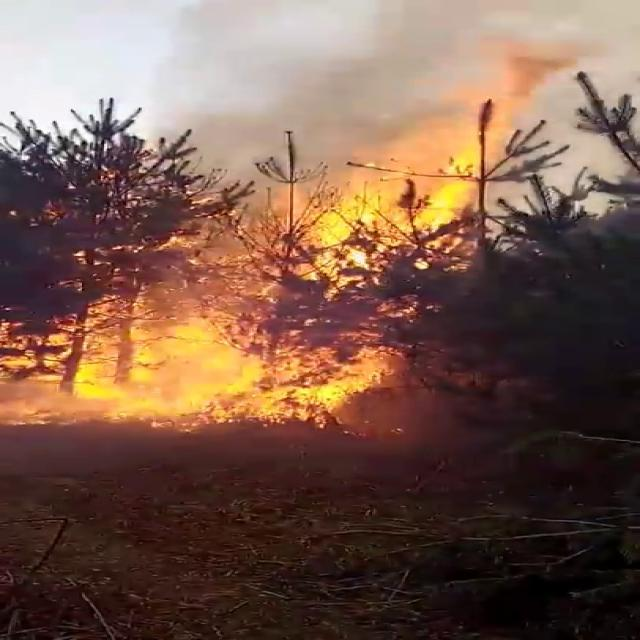Fire: (5, 133, 499, 435)
Smoke: (134, 0, 640, 202)
